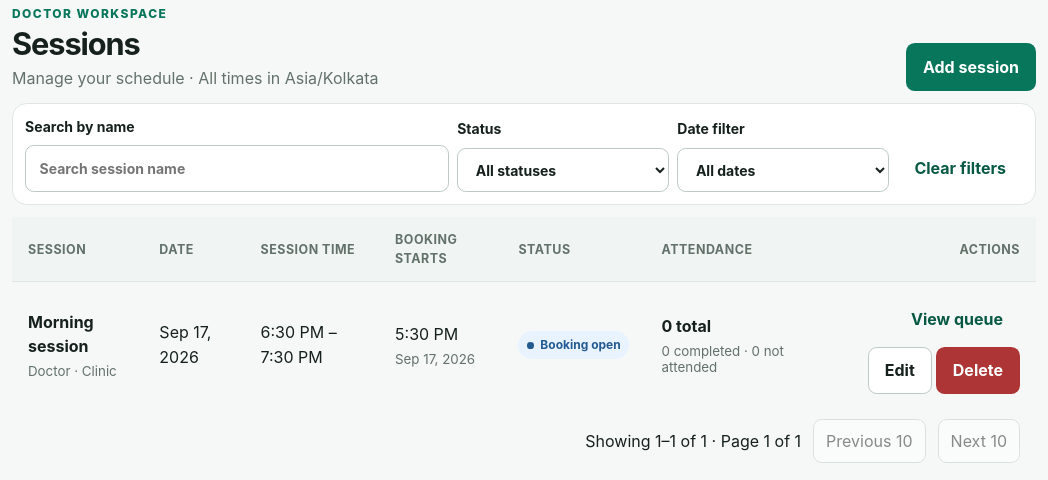
it: reports invalid date ranges and retains filter controls for empty results
This screenshot has width=1048, height=480.
Check: the text "Morning session" is shown, box x1=28 y1=312 x2=94 y2=356
Select "Date range" in the dropdown labelled "Date filter". click: (783, 170)
box: x1=677 y1=148 x2=889 y2=192
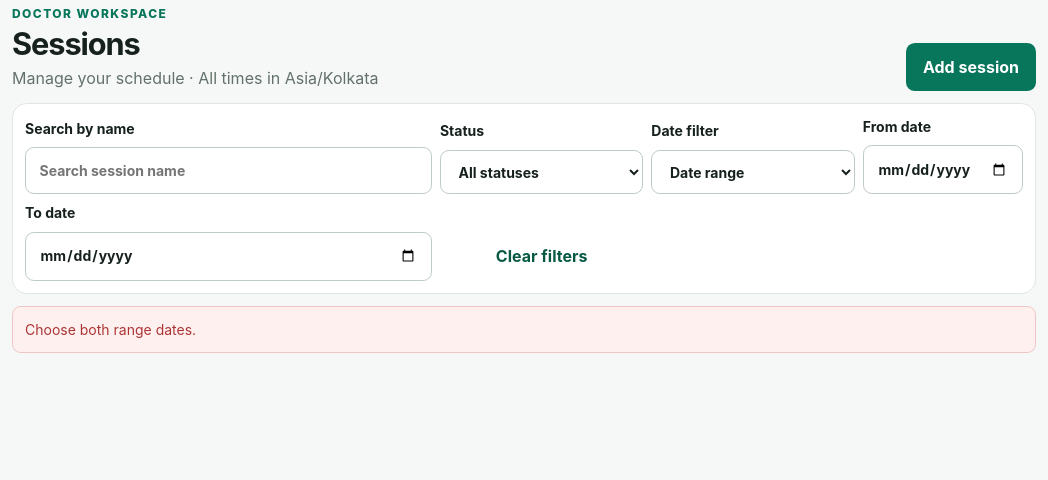
Type "2026-09-15" into the date field labelled "From date". click: (943, 170)
box: x1=863 y1=145 x2=1023 y2=194
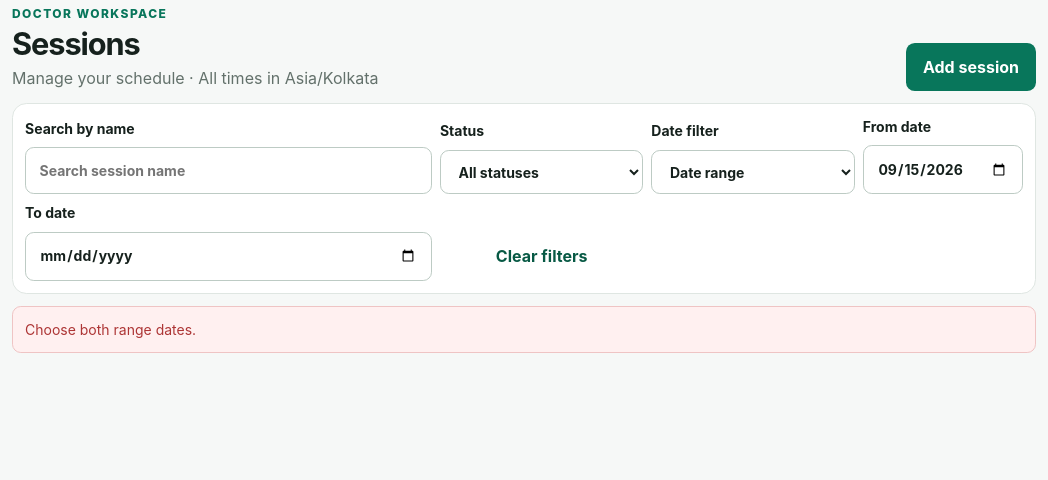
Type "2026-09-14" into the date field labelled "To date". click: (228, 256)
box: x1=25 y1=232 x2=432 y2=280
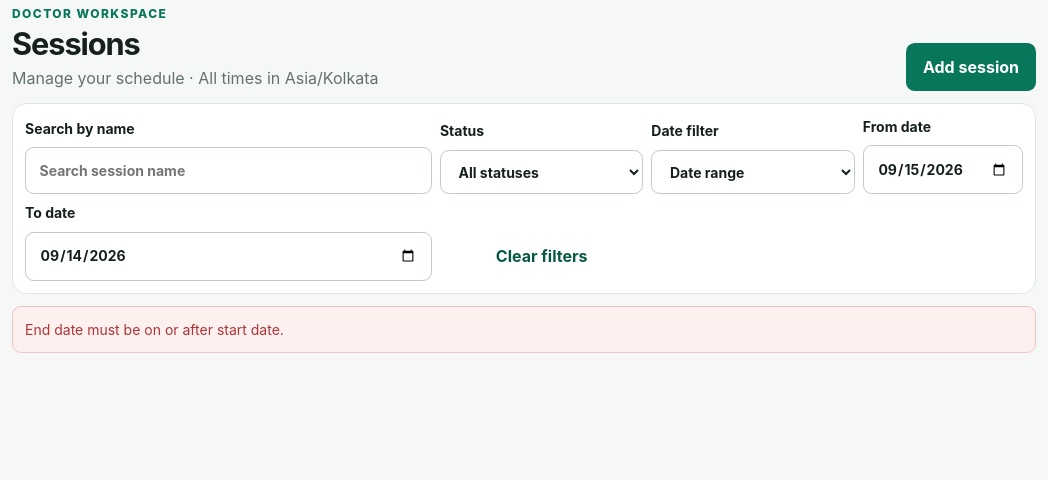
Check: the message reads "End date must be on or after start date.", box x1=25 y1=321 x2=284 y2=338
Click the button "Clear filters". click: (542, 257)
box: x1=440 y1=233 x2=643 y2=281
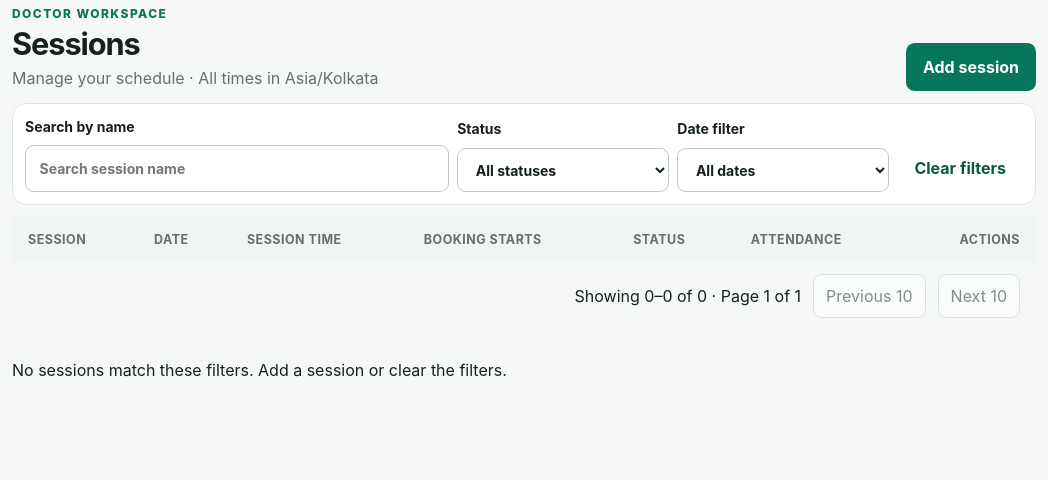
Check: the search field labelled "Search by name" is shown, box x1=25 y1=145 x2=449 y2=192
Check: the text "No sessions match" is shown, box x1=12 y1=360 x2=507 y2=380
